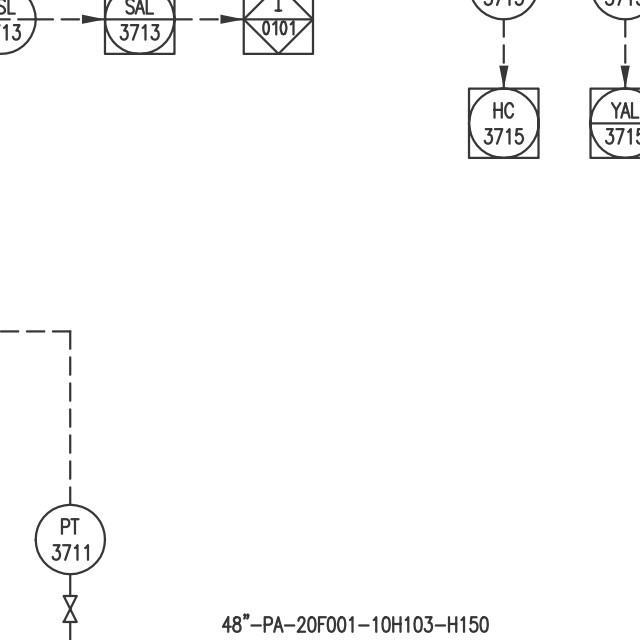GV: (59, 586, 84, 628)
